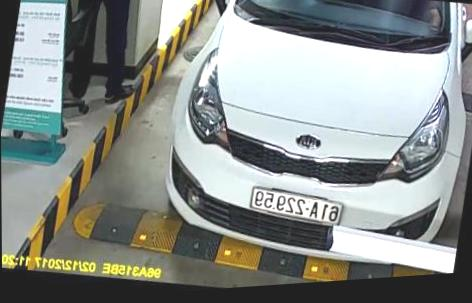License_Plate: (243, 182, 349, 229)
